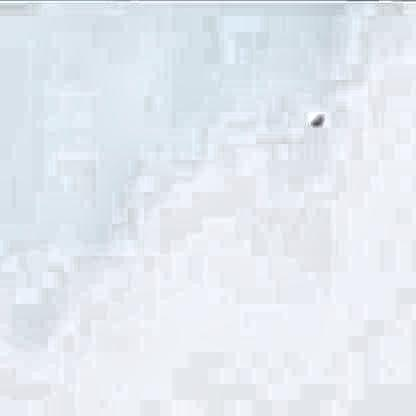golfball: (307, 107, 320, 125)
